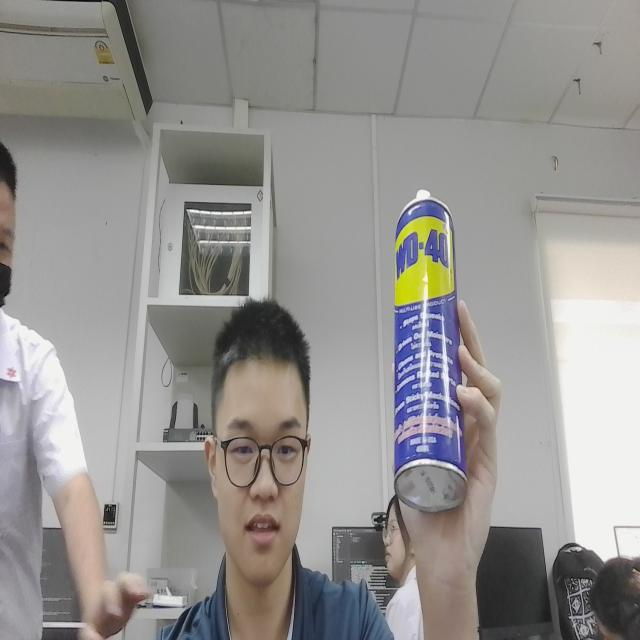wd-40: (384, 165, 474, 522)
